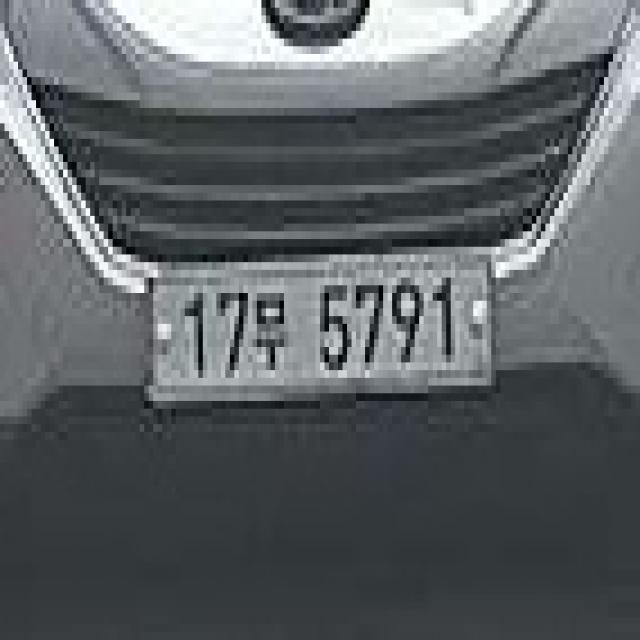1: (176, 286, 216, 386), (428, 270, 460, 370)
5: (316, 270, 352, 378)
7: (352, 270, 388, 378), (216, 270, 248, 385)
9: (388, 262, 428, 378)
license_plate: (135, 247, 505, 424)
mu: (248, 278, 293, 393)
